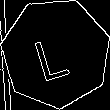L_N: (34, 24, 78, 82)
